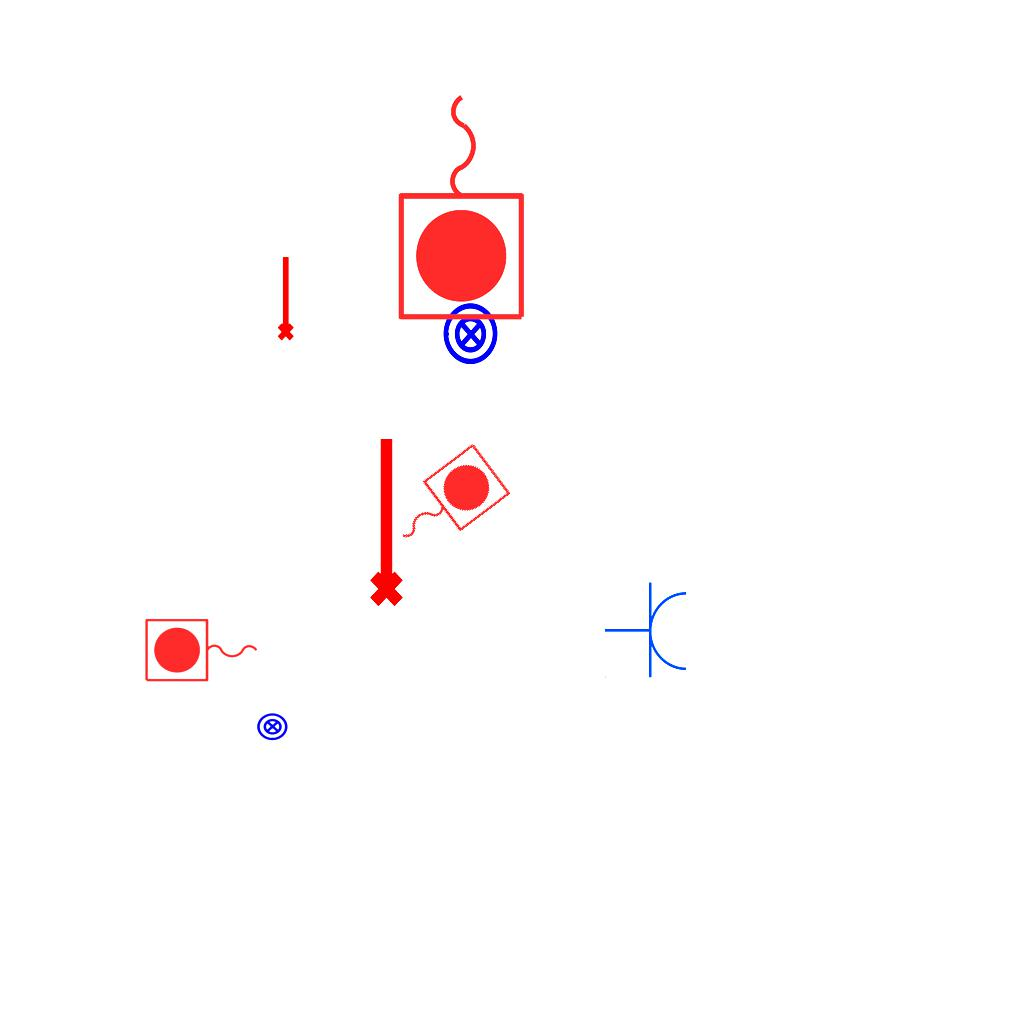ASR_Ansaugoeffnung: (361, 433, 407, 609), (273, 254, 296, 342)
Schukosteckdose_einfach: (604, 581, 691, 681)
Taster_beleuchtet: (438, 301, 504, 367), (256, 710, 289, 743)
Zugtaster: (391, 84, 535, 328), (375, 436, 517, 568), (141, 615, 263, 687)
